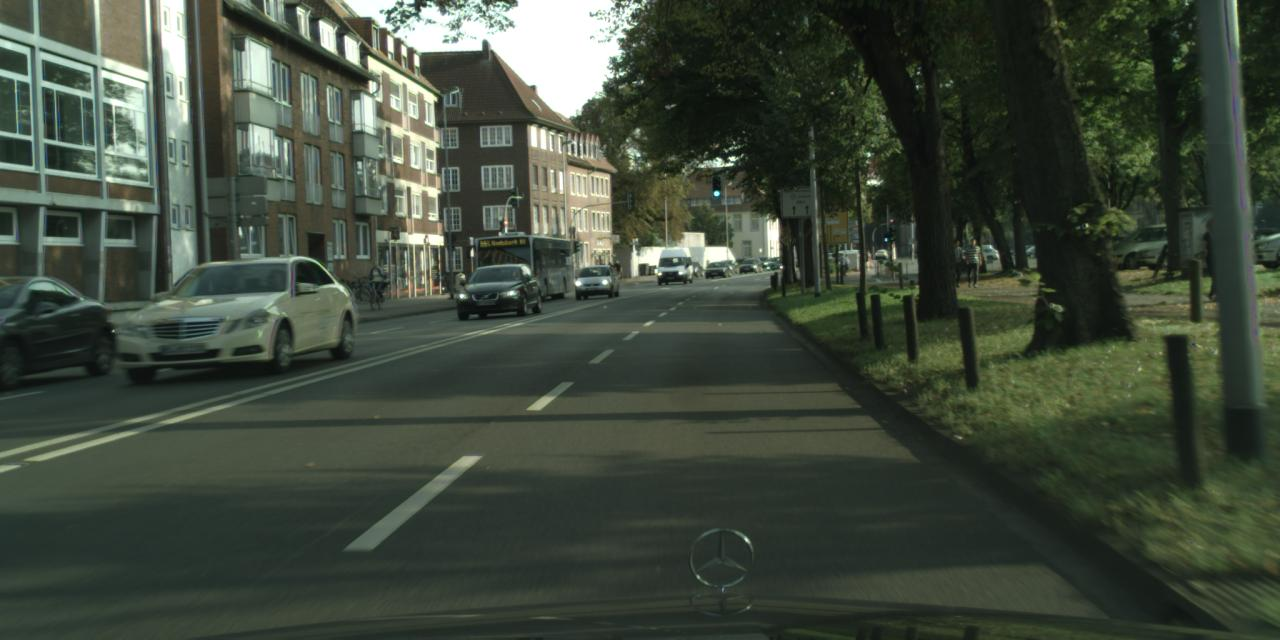ped: (1198, 218, 1230, 298), (962, 238, 982, 286), (945, 239, 964, 285), (368, 260, 384, 300), (840, 253, 848, 274), (612, 260, 620, 278), (606, 262, 612, 280)
